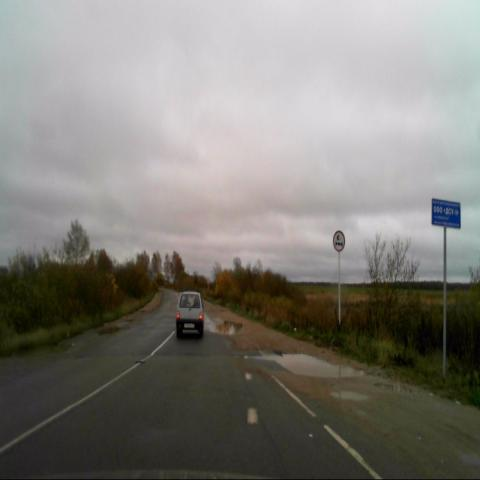3_12: (332, 229, 346, 252)
